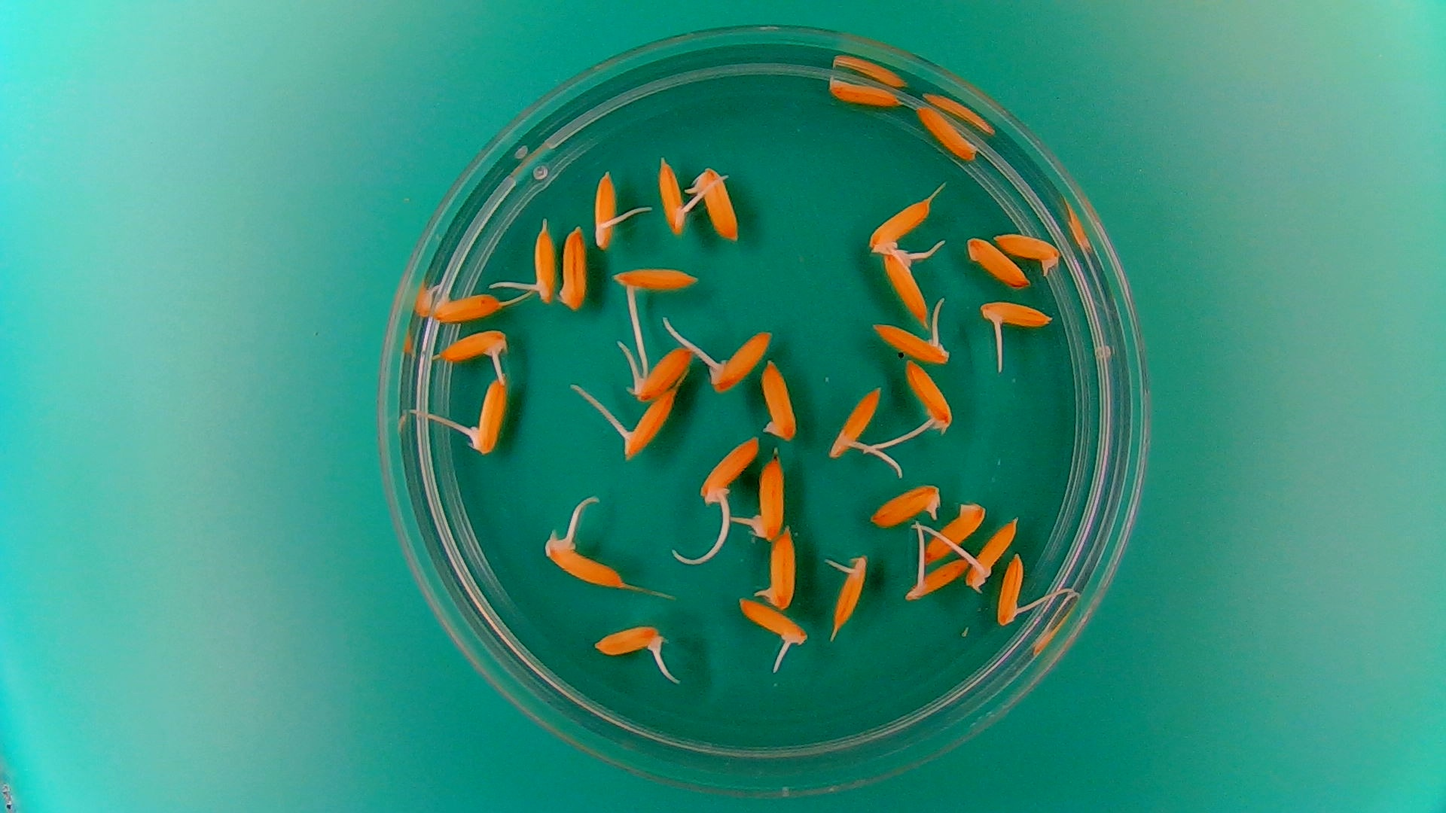no: (920, 500, 987, 565), (962, 235, 1033, 293), (914, 104, 980, 161), (758, 357, 799, 442), (557, 222, 590, 313), (428, 285, 504, 324), (825, 76, 903, 108)
yes: (547, 534, 630, 592), (828, 381, 886, 459), (880, 245, 935, 327), (700, 433, 762, 505), (619, 388, 680, 457), (903, 359, 957, 436), (866, 193, 932, 255), (708, 327, 770, 391), (737, 597, 810, 650), (624, 346, 691, 401), (755, 525, 797, 611), (468, 379, 514, 457), (966, 515, 1014, 589), (827, 549, 869, 629), (875, 324, 953, 363), (695, 166, 737, 238), (752, 454, 787, 540), (903, 558, 969, 603), (868, 486, 940, 526), (993, 234, 1061, 273), (613, 266, 703, 293), (435, 327, 506, 361), (657, 154, 686, 233), (592, 166, 620, 246), (597, 627, 665, 659), (980, 302, 1050, 333), (995, 550, 1023, 626), (531, 228, 557, 305)
